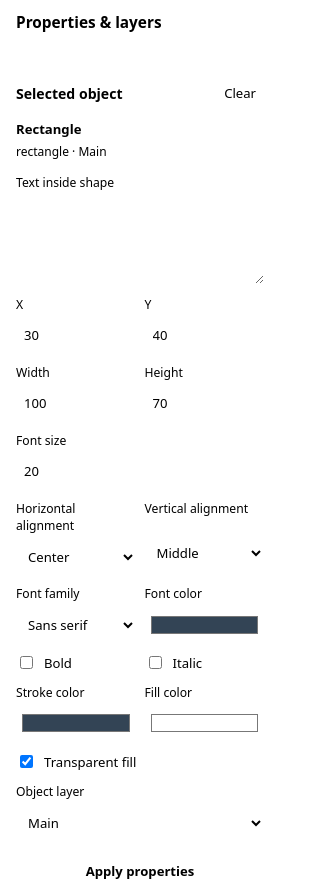
Test: canvas properties and layers › commits valid tweaks before clearing selection without Apply
This screenshot has width=320, height=896.
Replace the text in the number field labelled "Width" with "275" at {"x": 76, "y": 403}, box [16,386,136,420]
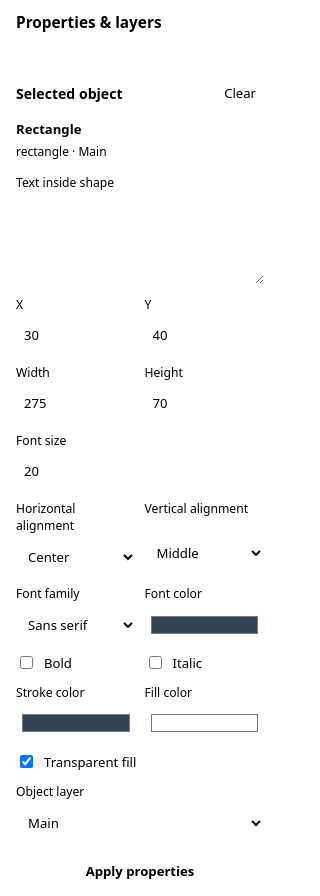
Type "Remember this" into the text box labelled "Text inside shape".
click(140, 240); type("Remember this")  # box [16,196,264,284]
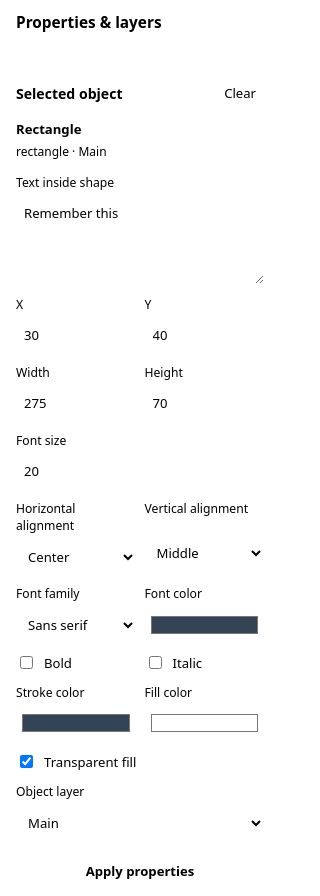
Click the button with aria-label "Clear object selection".
click(240, 93)  # box [216,78,264,108]
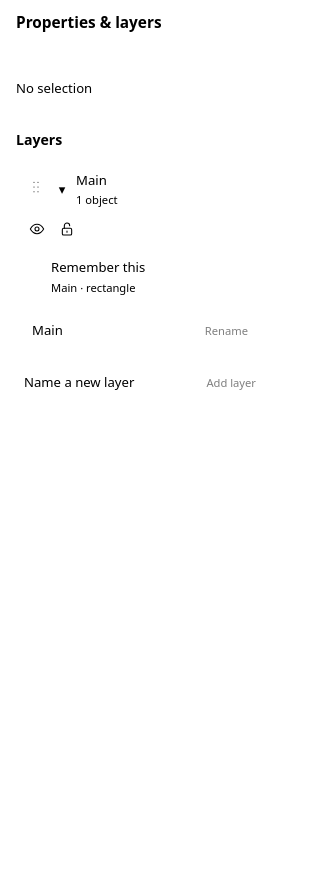
Now the text "No selection" is shown, box [16,79,92,97]
Click the button with aria-label "Select Remember this on Main".
click(150, 277)  # box [43,252,256,301]
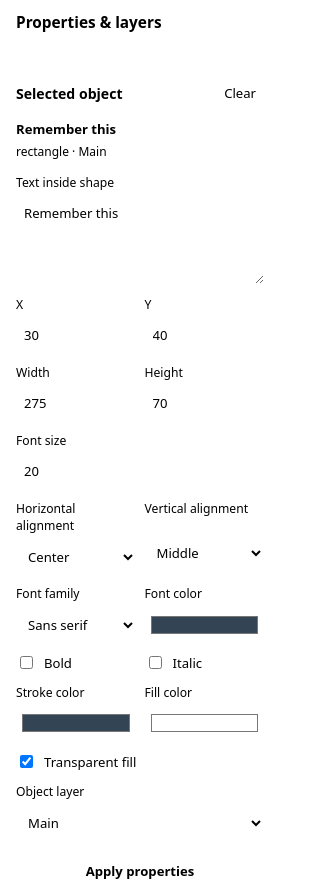
Now the number field labelled "Width" holds "275", box [16,386,136,420]
